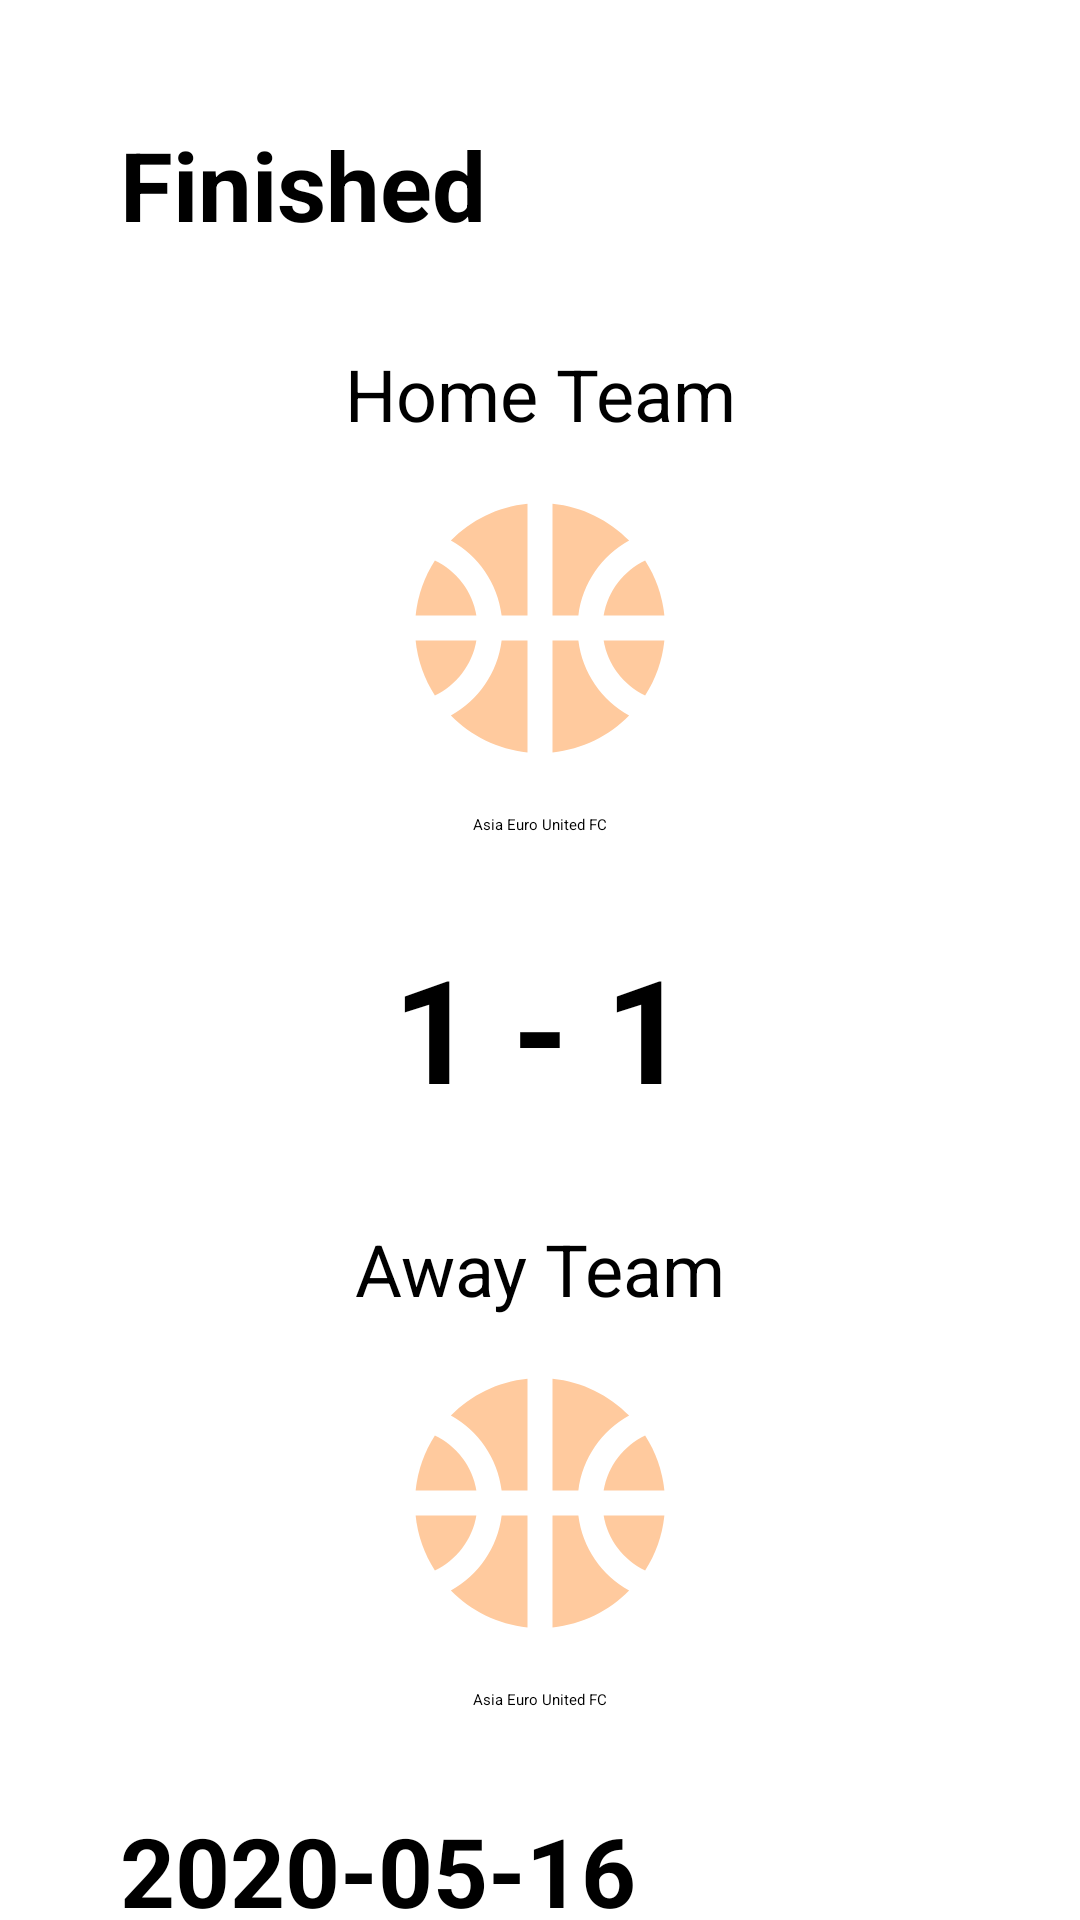

Named icons in this screenshot (1080 × 1920) and their centers, (x=x, y=y):
ball: (x=540, y=628), (x=540, y=1503)
